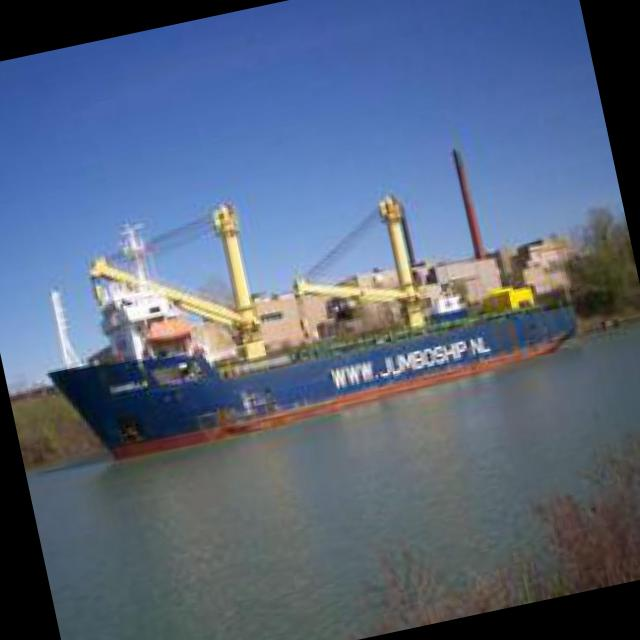boat: (5, 196, 608, 498)
